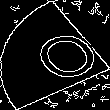O_SE: (11, 21, 99, 89)
